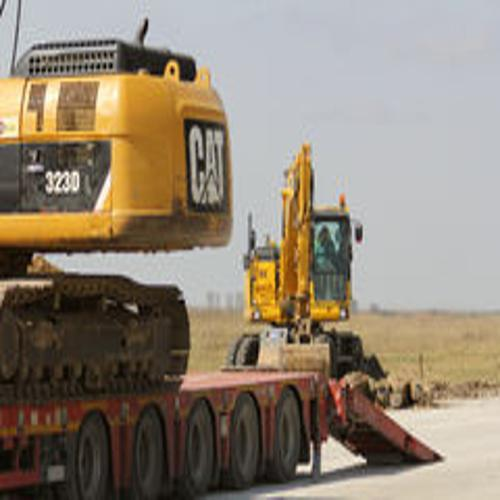con_eq: (1, 35, 229, 400), (232, 143, 392, 397)
